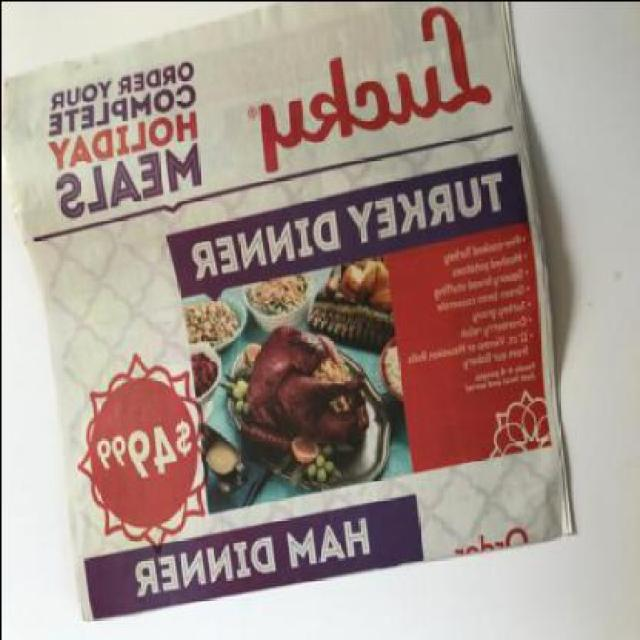paper: (1, 0, 572, 623)
